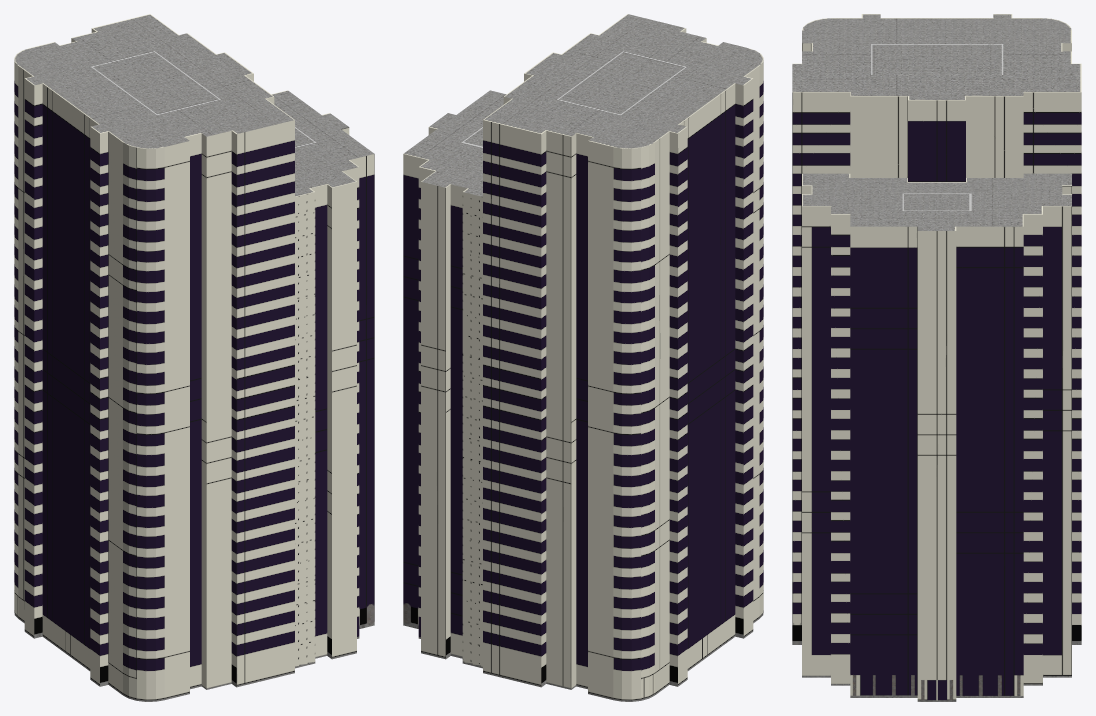
File: SkyScrapper_1.fbx
3 views of the same model, side by side, from view 1: azimuth 30°, elevation 25°; view 2: azimuth 150°, elevation 25°; view 3: azimuth 270°, elevation 25° (orthographic).
Parts seen in each view (by area): view 1: SkyScrapper_1; view 2: SkyScrapper_1; view 3: SkyScrapper_1.
Boxes of the visible parts, box(x1,y1,x2,y2) form: SkyScrapper_1: box(14, 14, 374, 701); SkyScrapper_1: box(403, 14, 763, 701); SkyScrapper_1: box(792, 14, 1081, 701).
Bounding box in the file's own units: 4977 × 9484 × 4500.
1 material, 1 textured.
